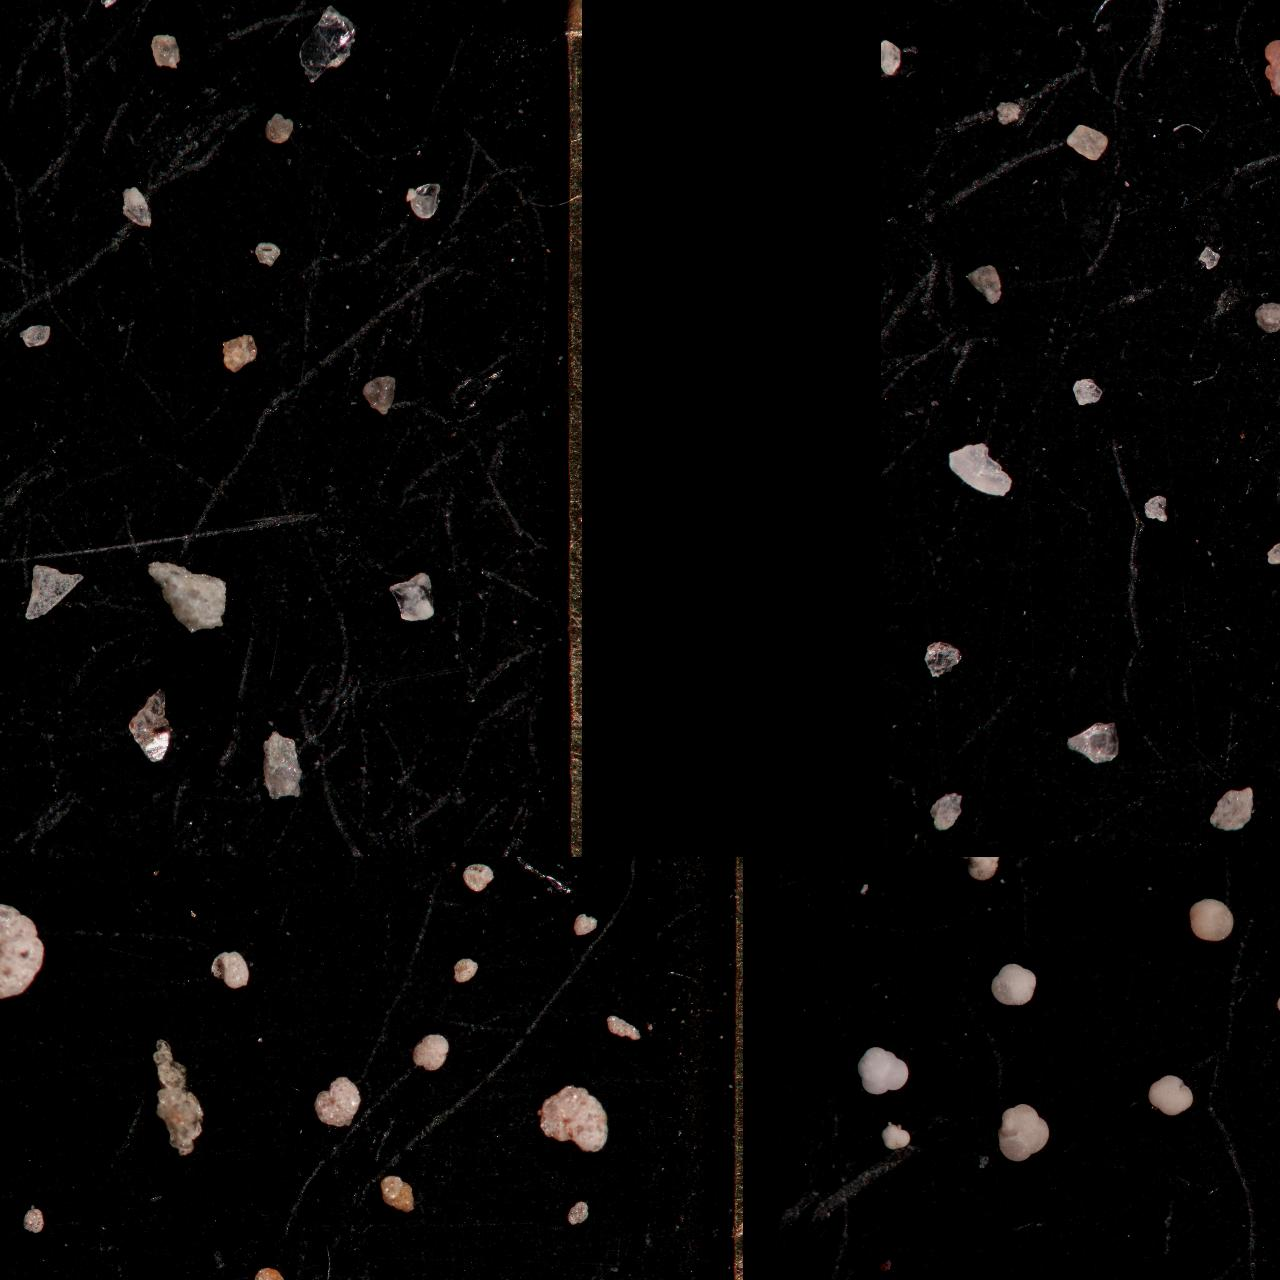Sediment: (145, 558, 226, 633), (298, 1, 356, 86), (23, 560, 86, 621), (947, 443, 1012, 497), (0, 266, 45, 342), (127, 687, 170, 763), (0, 731, 38, 811), (260, 729, 301, 801), (1065, 720, 1119, 764), (388, 572, 435, 622), (1208, 785, 1253, 831), (964, 263, 1002, 306), (222, 332, 259, 374), (361, 373, 399, 415), (1064, 123, 1107, 161), (121, 184, 154, 230), (922, 640, 961, 679), (407, 181, 441, 220), (930, 790, 964, 830), (1039, 0, 1091, 25), (0, 18, 28, 63), (900, 0, 955, 22), (150, 32, 182, 70), (0, 602, 19, 662), (1262, 36, 1280, 98), (0, 687, 23, 733), (264, 110, 294, 144), (1070, 375, 1102, 407), (0, 444, 21, 490), (18, 320, 50, 349), (0, 0, 21, 45), (1252, 301, 1280, 333), (253, 238, 282, 267), (996, 98, 1024, 128), (0, 661, 20, 701), (0, 138, 18, 183), (1143, 493, 1169, 523), (1228, 0, 1271, 18), (881, 38, 900, 76), (0, 799, 19, 836), (0, 312, 18, 346), (1198, 245, 1220, 271), (96, 0, 127, 19), (0, 0, 32, 18), (1133, 0, 1166, 13), (0, 486, 14, 515), (0, 377, 12, 403), (1267, 542, 1280, 564)
agglutinated: (152, 1037, 206, 1157), (538, 1085, 608, 1153), (0, 903, 43, 1000), (312, 1076, 360, 1129), (366, 857, 427, 881), (210, 951, 248, 989), (411, 1032, 448, 1071), (380, 1175, 415, 1212), (16, 857, 64, 881), (606, 1013, 642, 1042), (463, 863, 493, 893), (452, 956, 479, 983), (566, 1199, 590, 1226), (0, 1099, 16, 1135), (22, 1207, 45, 1233), (573, 912, 597, 935), (159, 857, 195, 870), (254, 1267, 288, 1280), (224, 857, 251, 869), (0, 857, 12, 883), (151, 857, 173, 870)
planktic: (995, 1099, 1051, 1165), (855, 1044, 910, 1096), (1186, 897, 1235, 944), (988, 961, 1037, 1007), (1148, 1070, 1194, 1117), (954, 857, 1009, 891), (1183, 857, 1240, 887), (779, 1110, 806, 1170), (795, 857, 847, 885), (779, 857, 828, 884), (887, 857, 937, 883), (1117, 857, 1167, 881), (877, 1118, 913, 1152), (1107, 857, 1152, 881), (1002, 857, 1046, 880), (779, 975, 799, 1026), (1200, 857, 1231, 874), (779, 857, 797, 883)
